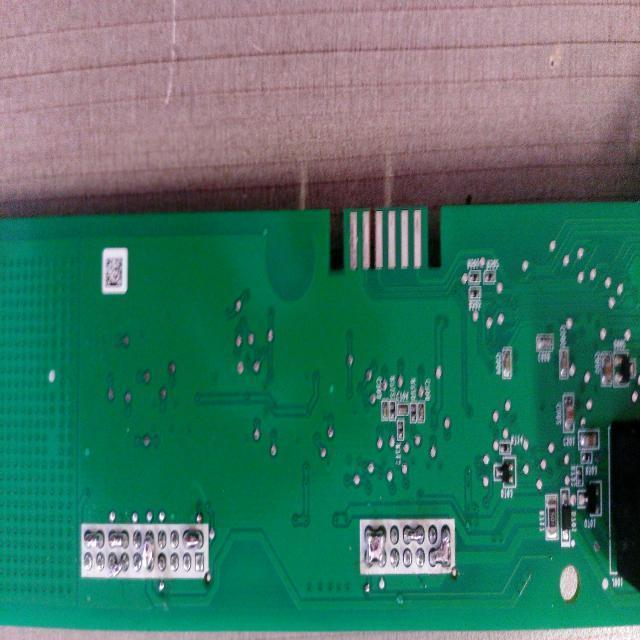Soldering shorted: (428, 514, 454, 576), (364, 522, 388, 570), (104, 522, 132, 554), (180, 518, 205, 552), (142, 525, 157, 579), (105, 550, 131, 578), (400, 522, 426, 548), (82, 525, 106, 551)
